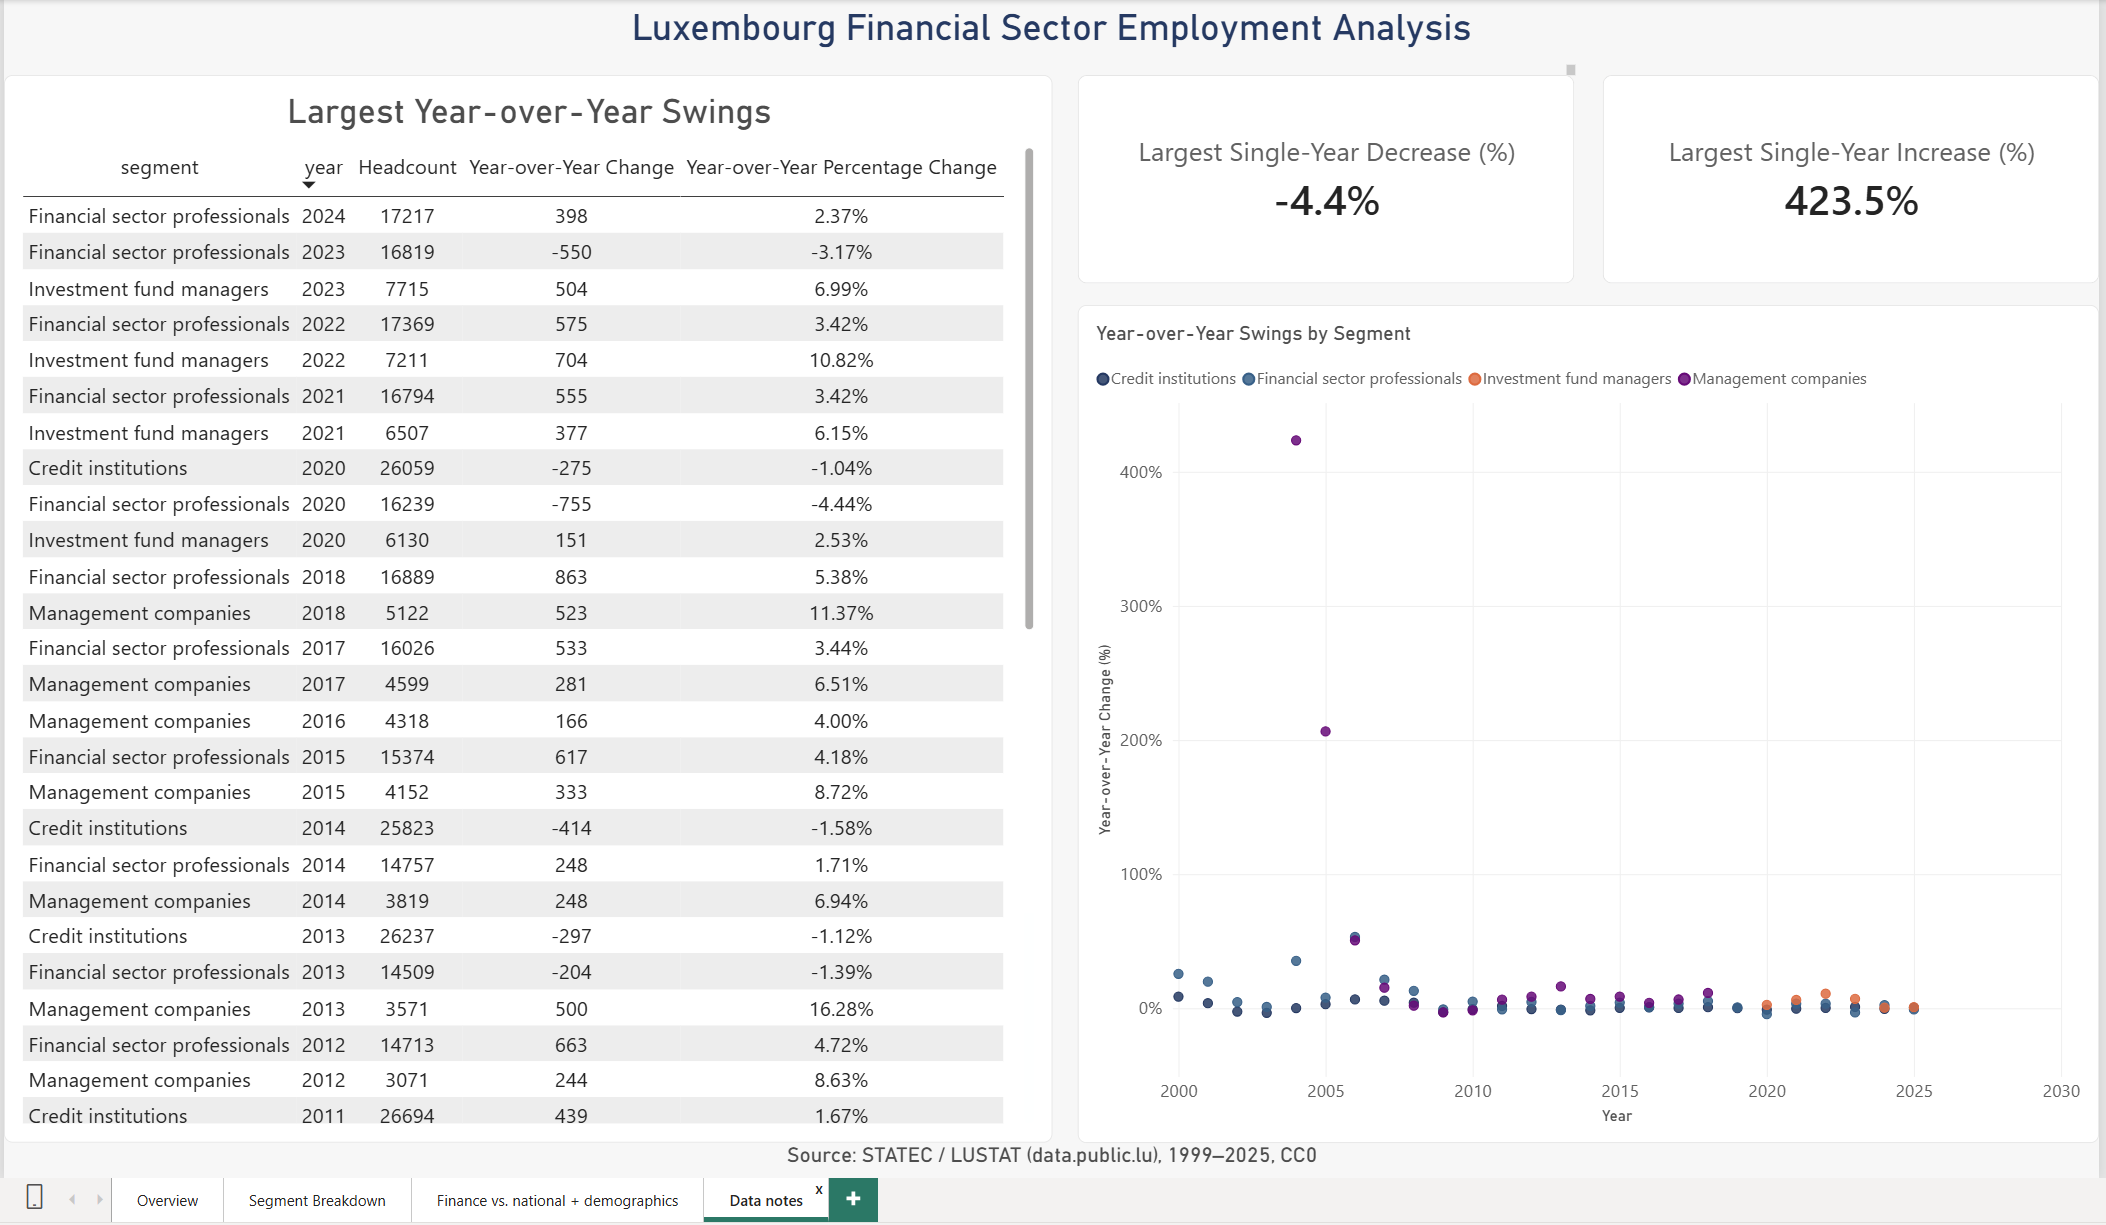

This screenshot's page, from the dashboard's own definition file:
{"tool":"powerbi","page":{"name":"Data notes","canvas":[1920,1080],"ordinal":3},"visuals":[{"type":"textbox","title":"Luxembourg Financial Sector Employment Analysis","box":[480.1,5.6,960.2,63],"z":0},{"type":"tableEx","title":"Largest Year-over-Year Swings","fields":{"Values":["vw_inflection_points.segment","vw_inflection_points.year","Sum(vw_inflection_points.headcount)","Sum(vw_inflection_points.year_over_year_change)","Sum(vw_inflection_points.year_over_year_pct_change)"]},"box":[0,68.9,961.2,978.4],"z":1000},{"type":"textbox","title":"Source: STATEC / LUSTAT (data.public.lu), 1999–2025, CC0","box":[700.8,1047.3,518.9,32.5],"z":2000},{"type":"scatterChart","title":"Year-over-Year Swings by Segment","fields":{"Series":["vw_inflection_points.segment"],"X":["vw_inflection_points.year"],"Y":["Sum(vw_inflection_points.year_over_year_pct_change)"]},"box":[984.1,279.5,936.3,767.8],"z":3000},{"type":"cardVisual","fields":{"Data":["vw_inflection_points.Largest Single-Year Decrease (%)"]},"box":[984.1,68.9,455.7,191.5],"z":4000},{"type":"cardVisual","fields":{"Data":["vw_inflection_points.Largest Single-Year Increase (%)"]},"box":[1464.7,68.9,455.7,191.5],"z":5000}]}

Visuals, with their boxes on the page's 1920x1080 design canvas (x1, y1, x2, y2). These are canvas units, not pixel positions in the 2106x1225 screenshot, which may show the page scaled, cropped or inside an application window:
"Luxembourg Financial Sector Employment Analysis" textbox: bbox(480, 6, 1440, 69)
"Largest Year-over-Year Swings" tableEx: bbox(0, 69, 961, 1047)
"Source: STATEC / LUSTAT (data.public.lu), 1999–2025, CC0" textbox: bbox(701, 1047, 1220, 1080)
"Year-over-Year Swings by Segment" scatterChart: bbox(984, 280, 1920, 1047)
cardVisual - vw_inflection_points.Largest Single-Year Decrease (%): bbox(984, 69, 1440, 260)
cardVisual - vw_inflection_points.Largest Single-Year Increase (%): bbox(1465, 69, 1920, 260)
